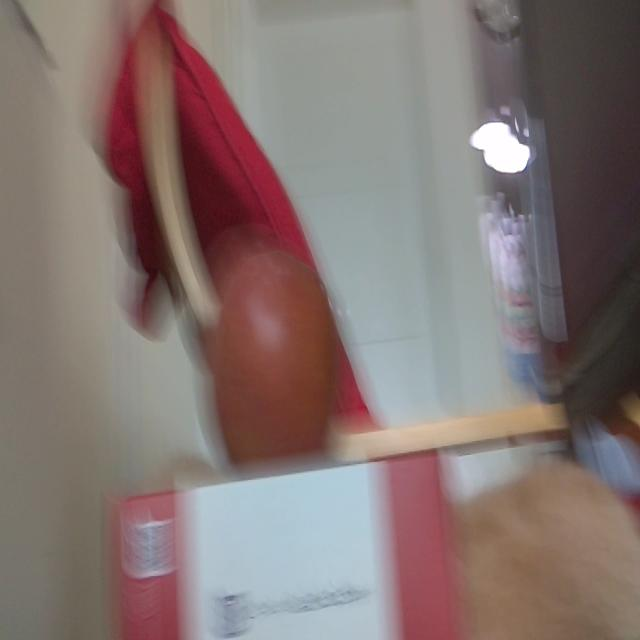apple: (214, 252, 338, 460)
